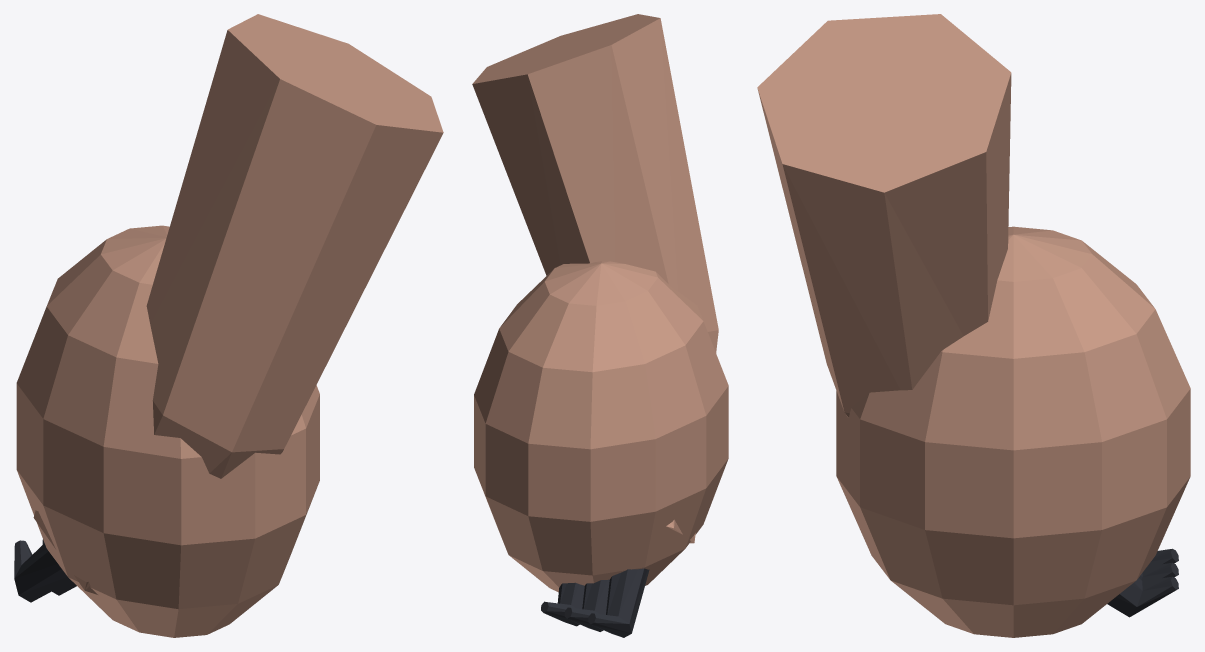
File: gorehulk_b_arm_-1.obj
3 renders of one model, left to right at view 1: azimuth 30°, elevation 25°; view 2: azimuth 150°, elevation 25°; view 3: azimuth 270°, elevation 25°, orthographic. The views are drawn at different scales.
Visible parts, largest first — view 1: gorehulk_b_arm_-1; view 2: gorehulk_b_arm_-1; view 3: gorehulk_b_arm_-1.
Boxes of the visible parts, x1,y1,x2,y2 form: gorehulk_b_arm_-1: [14, 14, 443, 637]; gorehulk_b_arm_-1: [472, 14, 728, 637]; gorehulk_b_arm_-1: [757, 14, 1190, 637].
Size of the model in its own units: 0.4725 by 0.8576 by 0.5367.
